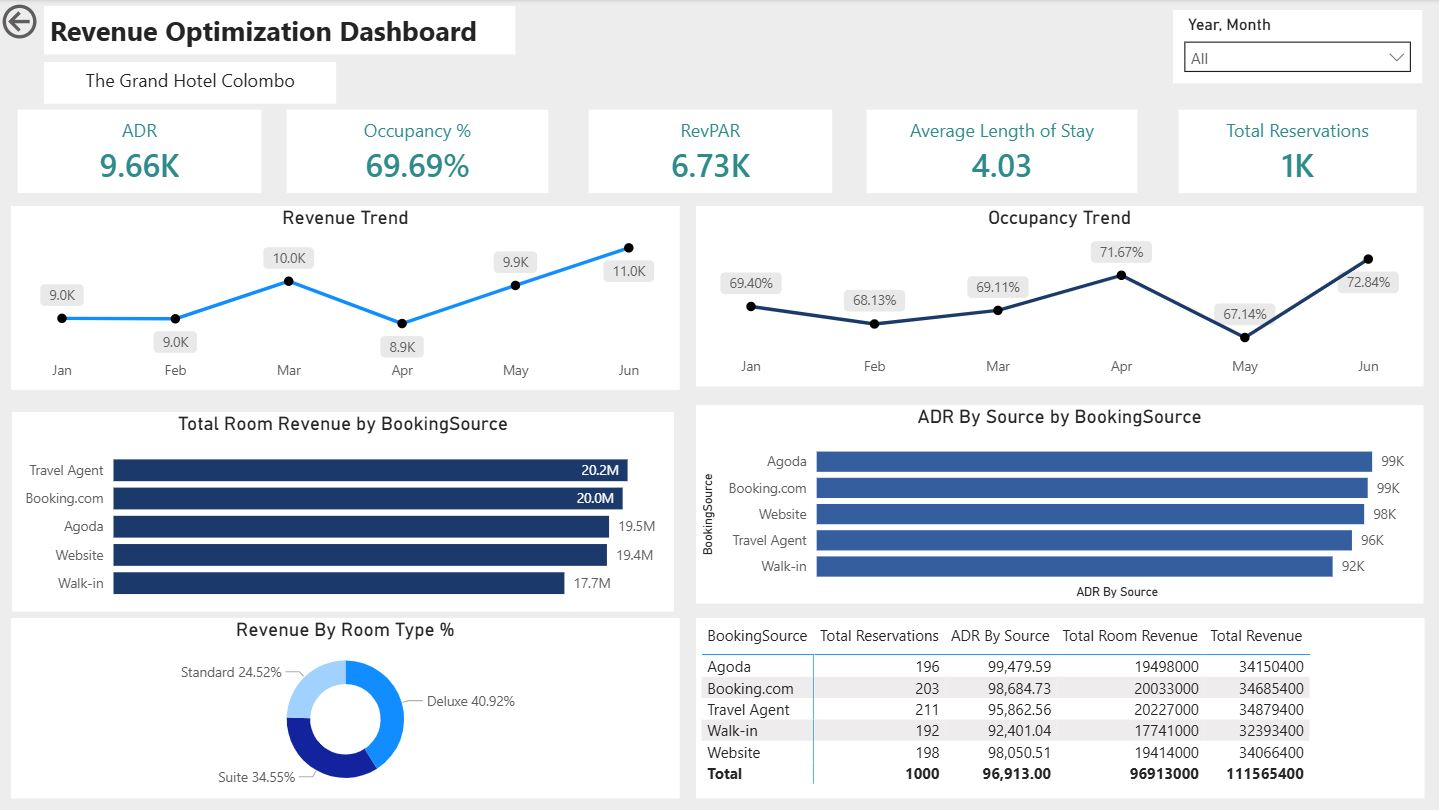

This screenshot's page, from the dashboard's own definition file:
{"tool":"powerbi","page":{"name":"Revenue Optimization Dashboard","canvas":[1280,720],"ordinal":1},"visuals":[{"type":"textbox","box":[42.1,5.9,417.9,43.1],"z":0},{"type":"cardVisual","fields":{"Data":["Measure.ADR"]},"box":[13.3,93.1,226.1,84.2],"z":1000},{"type":"cardVisual","fields":{"Data":["Measure.Occupancy %"]},"box":[251.8,93.1,243,84.2],"z":2000},{"type":"cardVisual","fields":{"Data":["Measure.RevPAR"]},"box":[519.6,93.1,227,84.2],"z":3000},{"type":"cardVisual","fields":{"Data":["Measure.Average Length of Stay"]},"box":[766.1,93.1,250.9,84.2],"z":4000},{"type":"cardVisual","fields":{"Data":["Measure.Total Reservations"]},"box":[1042.8,93.1,221.7,84.2],"z":5000},{"type":"lineChart","title":"Revenue Trend","fields":{"Category":["DateTable.Month"],"Y":["Measure.ADR"]},"box":[12.7,184,593,163.4],"z":6000},{"type":"donutChart","title":"Revenue By Room Type %","fields":{"Y":["Measure.Total Room Revenue"],"Category":["Rooms.RoomType"]},"box":[12.7,549,593,160.5],"z":7000},{"type":"clusteredBarChart","fields":{"Category":["Reservations.BookingSource"],"Y":["Measure.ADR By Source"]},"box":[619.4,360.1,644.9,176.1],"z":8000},{"type":"clusteredBarChart","fields":{"Category":["Reservations.BookingSource"],"Y":["Measure.Total Room Revenue"]},"box":[13.7,366,587.2,177.1],"z":9000},{"type":"lineChart","title":"Occupancy Trend","fields":{"Category":["DateTable.Month"],"Y":["Measure.Occupancy %"]},"box":[619.4,184,644.9,160.5],"z":10000},{"type":"pivotTable","fields":{"Values":["Measure.Total Reservations","Measure.ADR By Source","Measure.Total Room Revenue","Measure.Total Revenue"],"Rows":["Reservations.BookingSource"]},"box":[619.4,549,645.9,160.5],"z":11000},{"type":"actionButton","box":[0,0,100,40],"z":12000},{"type":"slicer","fields":{"Values":["DateTable.Year","DateTable.Month"]},"box":[1043.2,9.8,221.2,64.6],"z":13000},{"type":"textbox","box":[42.1,55.8,259.3,37.2],"z":14000}]}

Visuals, with their boxes in screenshot pixels (x1, y1, x2, y2), scaled from the page's 1280x720 canvas onto the 1439x810 screenshot:
textbox: BBox(47, 7, 517, 55)
cardVisual - Measure.ADR: BBox(15, 105, 269, 199)
cardVisual - Measure.Occupancy %: BBox(283, 105, 556, 199)
cardVisual - Measure.RevPAR: BBox(584, 105, 839, 199)
cardVisual - Measure.Average Length of Stay: BBox(861, 105, 1143, 199)
cardVisual - Measure.Total Reservations: BBox(1172, 105, 1422, 199)
"Revenue Trend" lineChart: BBox(14, 207, 681, 391)
"Revenue By Room Type %" donutChart: BBox(14, 618, 681, 798)
clusteredBarChart - Reservations.BookingSource x Measure.ADR By Source: BBox(696, 405, 1421, 603)
clusteredBarChart - Reservations.BookingSource x Measure.Total Room Revenue: BBox(15, 412, 676, 611)
"Occupancy Trend" lineChart: BBox(696, 207, 1421, 388)
pivotTable - Measure.Total Reservations x Measure.ADR By Source: BBox(696, 618, 1422, 798)
actionButton: BBox(0, 0, 112, 45)
slicer - DateTable.Year x DateTable.Month: BBox(1173, 11, 1421, 84)
textbox: BBox(47, 63, 339, 105)
